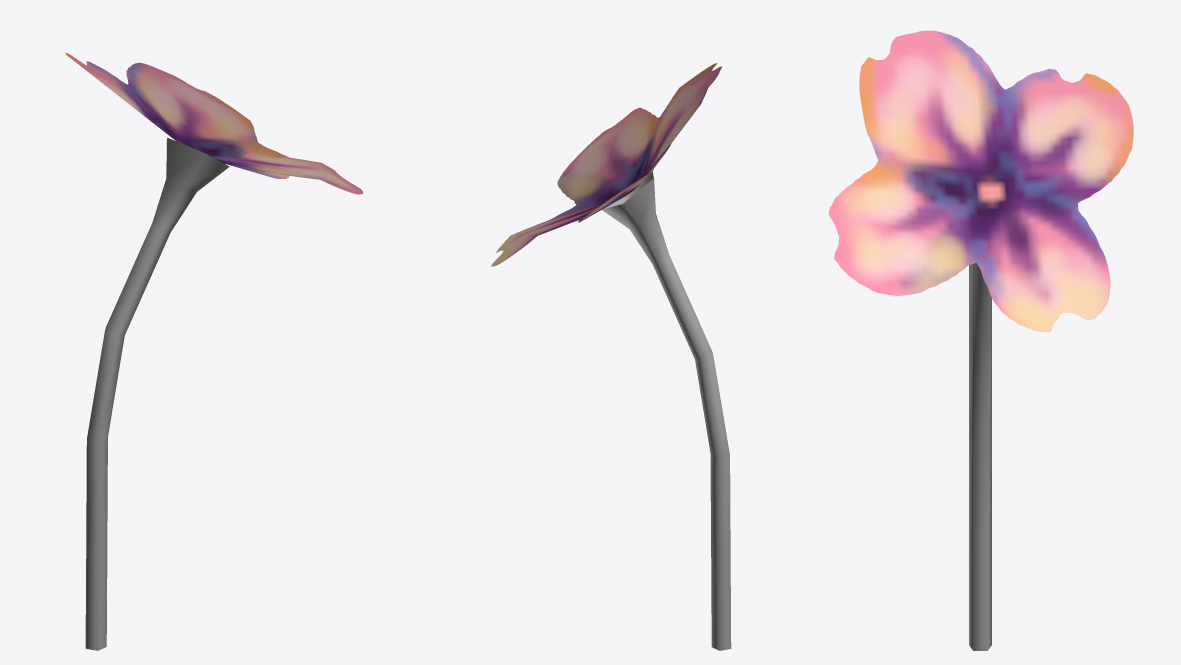
File: FlowerSingle2.fbx
3 renders of one model, left to right at view 1: azimuth 30°, elevation 25°; view 2: azimuth 150°, elevation 25°; view 3: azimuth 270°, elevation 25°, orthographic. The views are drawn at different scales.
Parts seen in each view (by area): view 1: FlowerSingle2; view 2: FlowerSingle2; view 3: FlowerSingle2.
Part boxes in pixels (box(x1,y1,x2,y2)): FlowerSingle2: box(65, 52, 362, 650); FlowerSingle2: box(491, 63, 731, 650); FlowerSingle2: box(828, 30, 1133, 650).
Bounding box in the file's own units: 0.4164 × 0.9228 × 0.4764.
